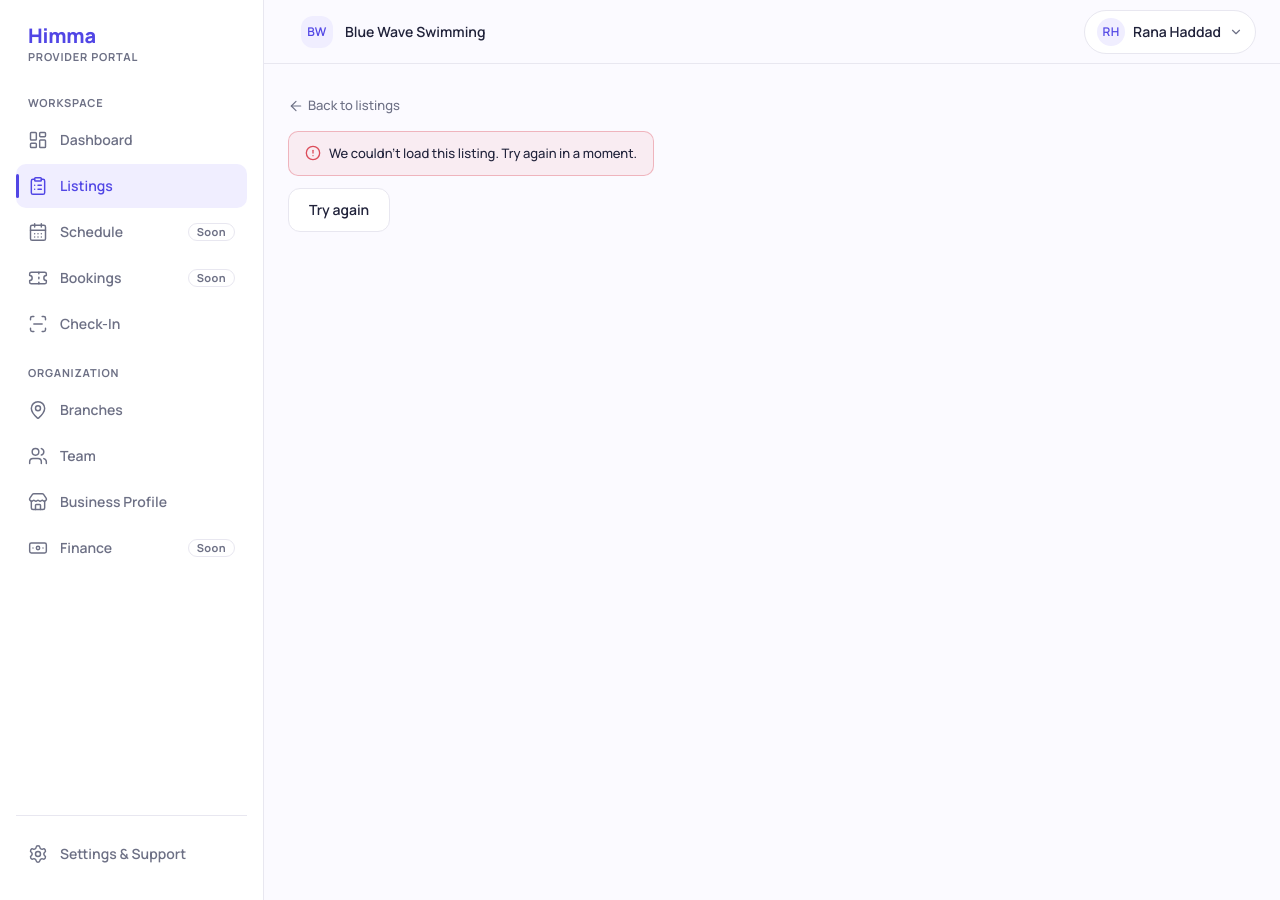
Scenario: listing detail (W2-7, read-oriented) › a transient detail failure renders a retryable error, and retry recovers
The image size is (1280, 900).
Expected: the text "We couldn’t load this listing. Try again in a moment." is shown, [329,144,637,162]
Step 1. Click the button "Try again" → (339, 210), box [288,188,390,232]
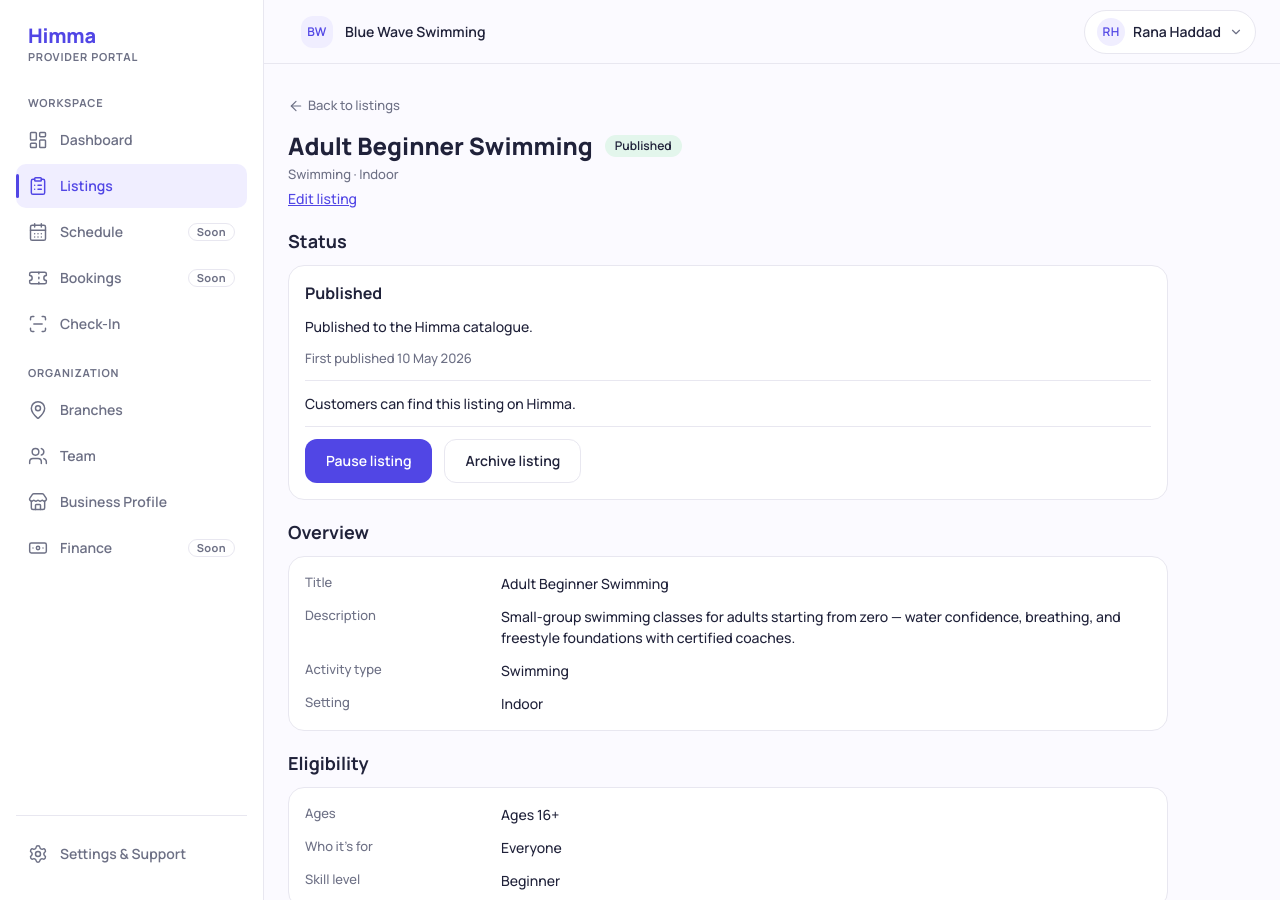
Now the heading "Adult Beginner Swimming" is shown, box [288,130,593,160]
